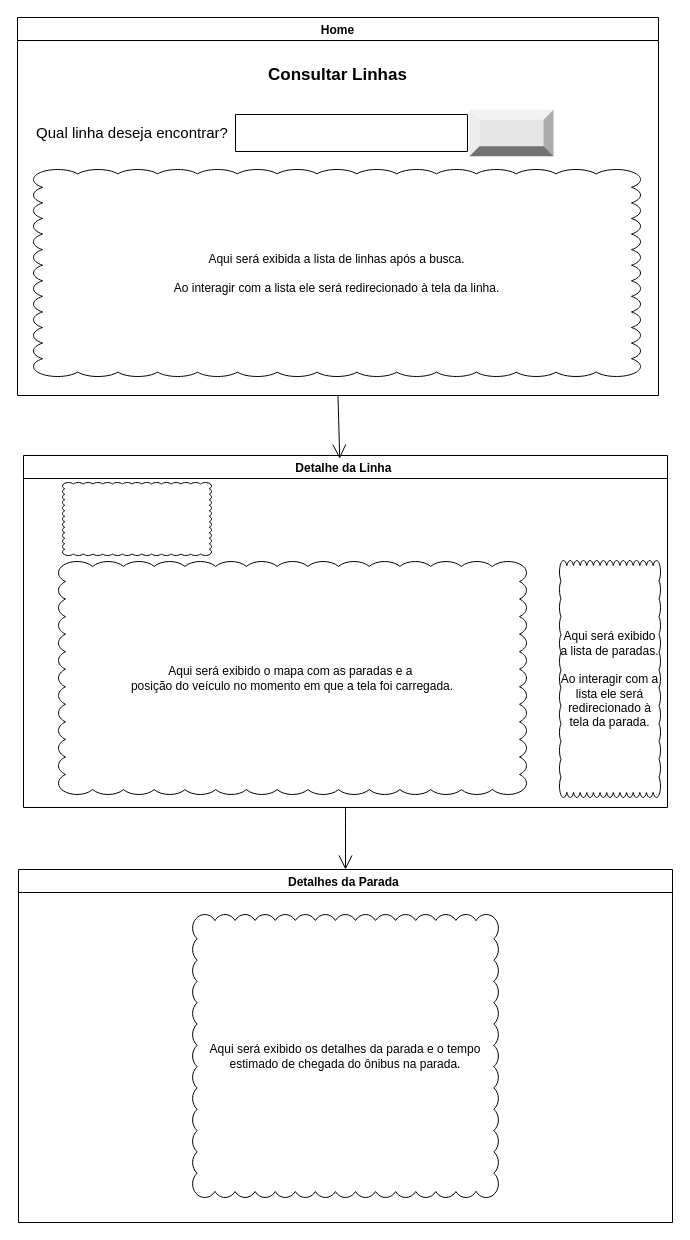
Image size: 690x1240. Some labels were removed from this diagram. Here are the shapes that lost their labels. From the top down, the centre of each, then its label:
At (511,132): "Buscar".
At (137,519): "Aqui será exibido a origem, destino e a previsão de chegada ao ponto final.".
